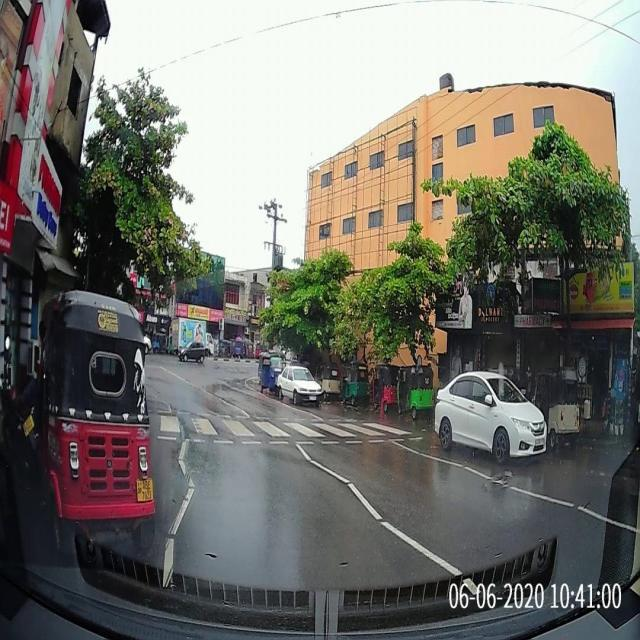Crosswalk: (159, 415, 416, 440)
